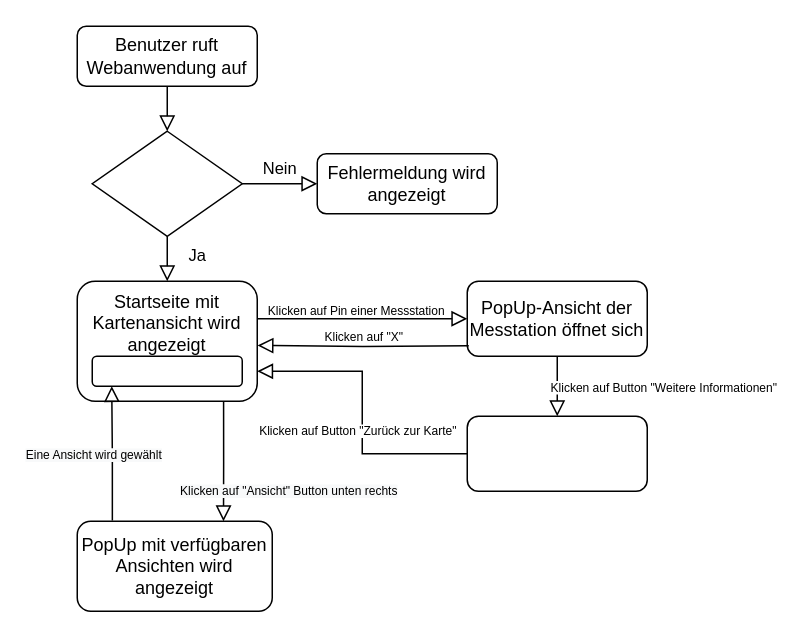
The diagram is 803 pixels wide and 638 high, and some of its shapes have lost their labels. The centre of each missing label's shape, as x and y in pixels:
"Detailansicht der Messstation wird angezeigt" goes at (x=556, y=453).
"Frost-Server erreichbar?" goes at (x=166, y=183).
"Mit neuer Ansicht" goes at (x=166, y=370).
